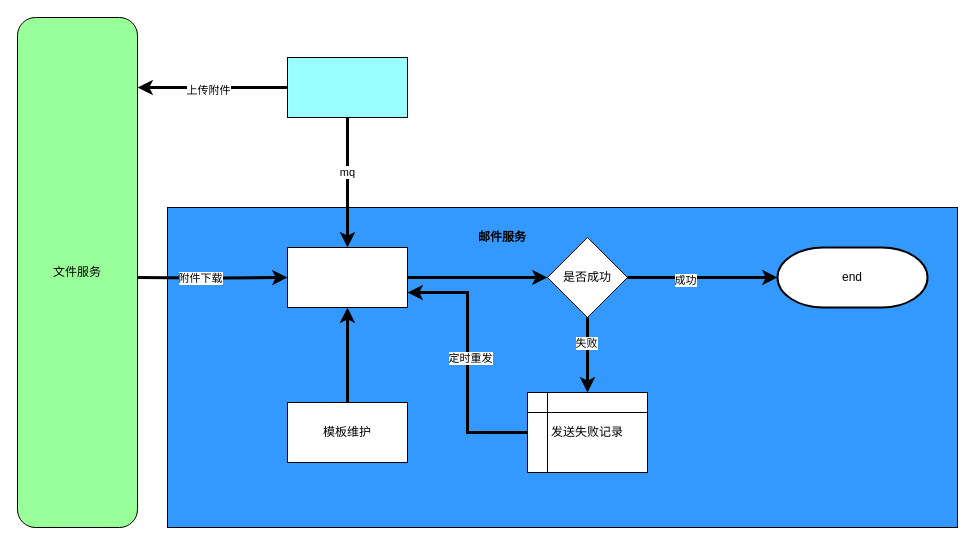
Some shapes in this 975 by 545 pixel diagram are drawn without their labels. The shapes that lost their labels are listed below. From the top down, each one's centre as x and y in pixels, then its label:
[347,87]: 调用者
[347,277]: 邮件发送
